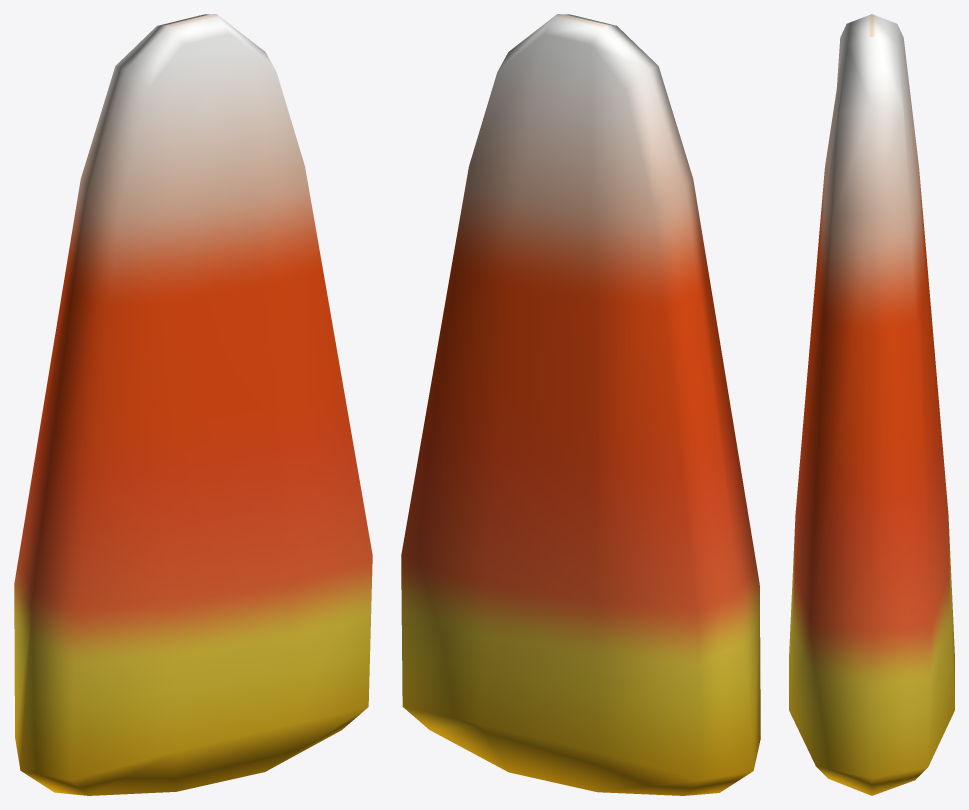
Rendered from CandyCornMesh.fbx.
The picture shows the model from 3 angles, left to right: view 1: azimuth 30°, elevation 25°; view 2: azimuth 150°, elevation 25°; view 3: azimuth 270°, elevation 25°; orthographic projection. The views are drawn at different scales.
Parts seen in each view (by area): view 1: CandyCornMesh; view 2: CandyCornMesh; view 3: CandyCornMesh.
Boxes of the visible parts, bbox=[...] form: CandyCornMesh: bbox=[14, 14, 372, 795]; CandyCornMesh: bbox=[401, 14, 760, 795]; CandyCornMesh: bbox=[789, 14, 954, 795].
Size of the model in its own units: 0.2822 by 0.5943 by 0.1237.
